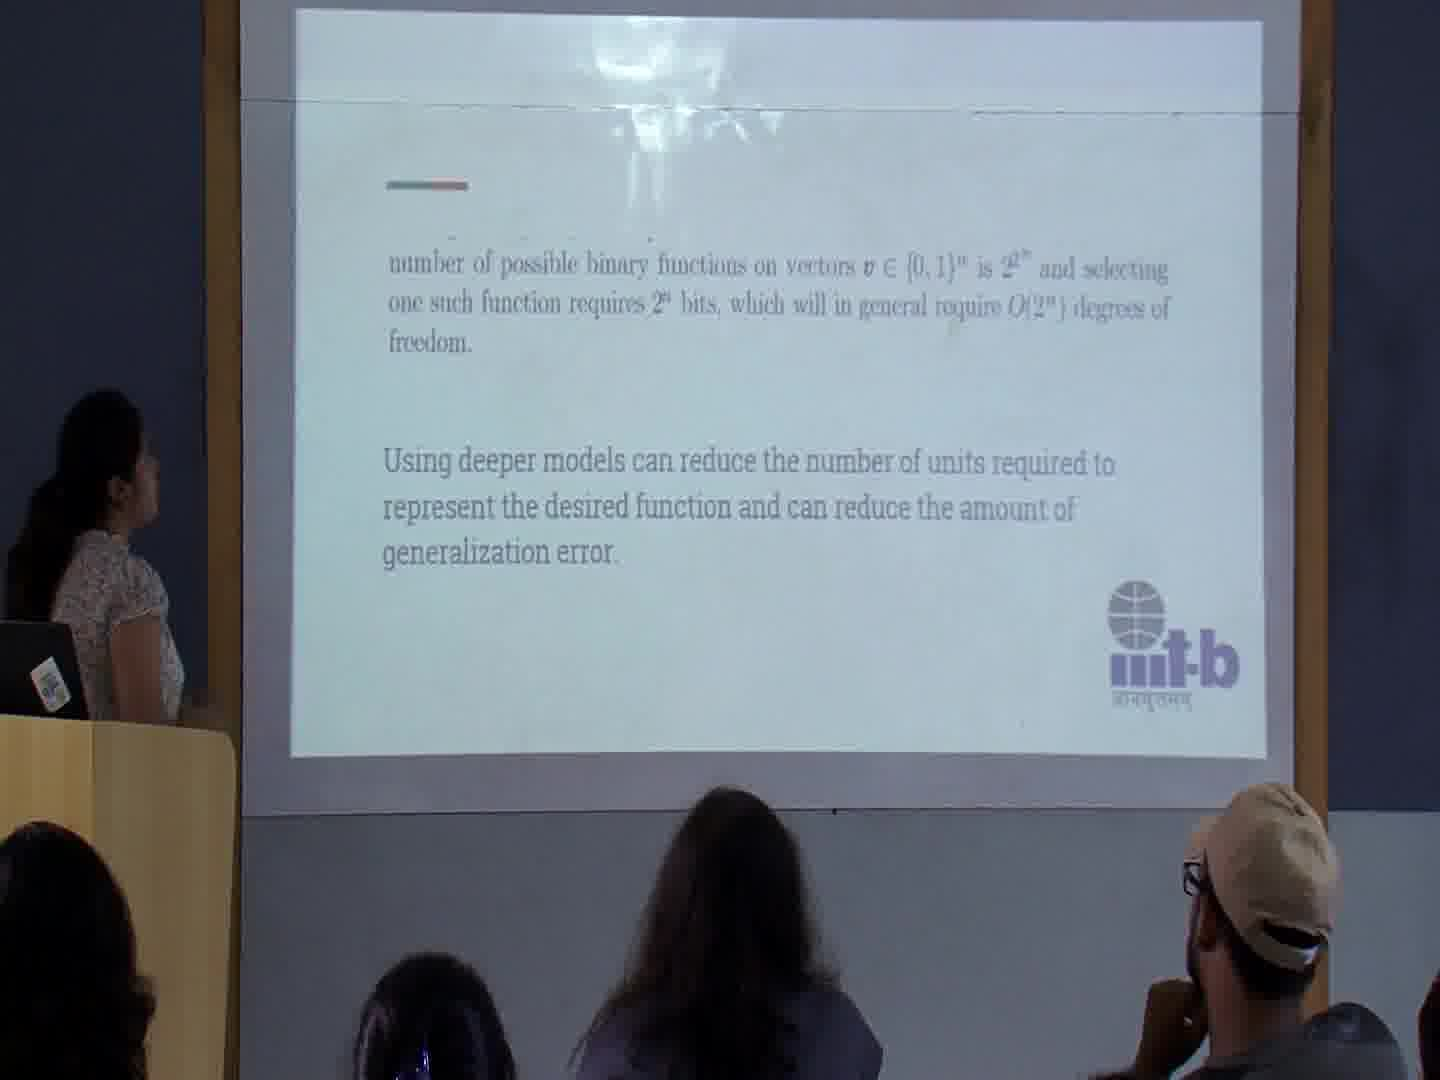slide: (293, 11, 1265, 756)
